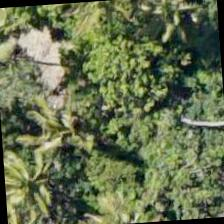Kelapa_Sawit: (1, 122, 63, 216), (74, 173, 168, 223)
